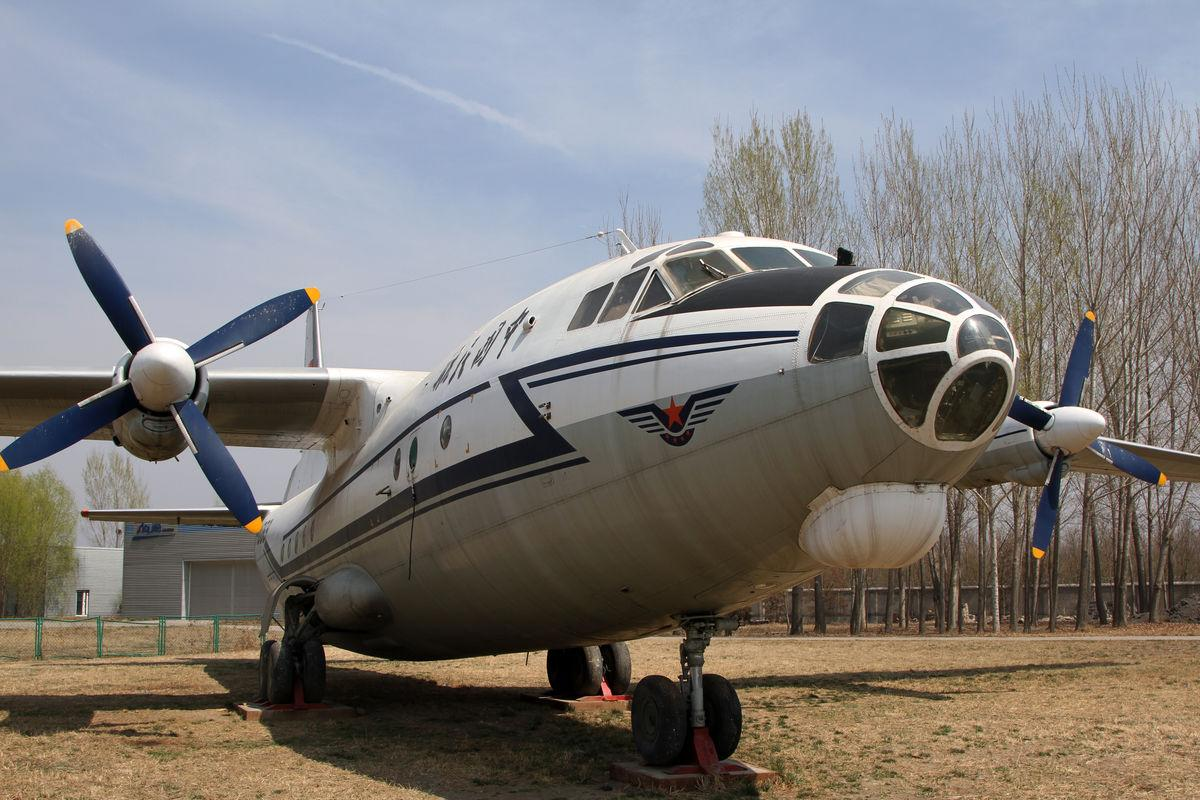airplane: (1, 208, 1200, 711)
